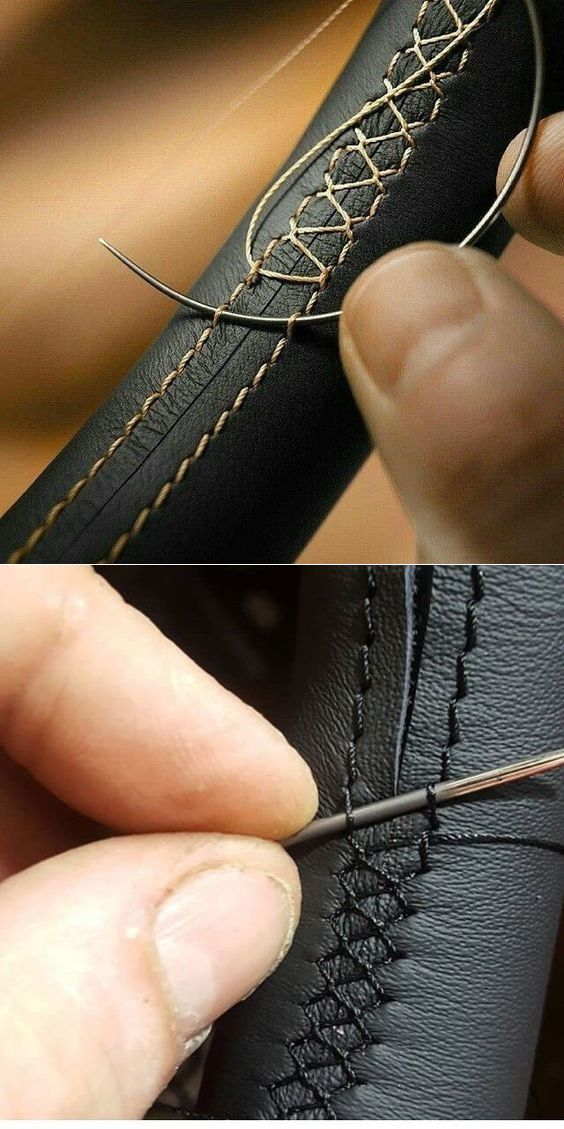cuero: (2, 2, 564, 1129)
